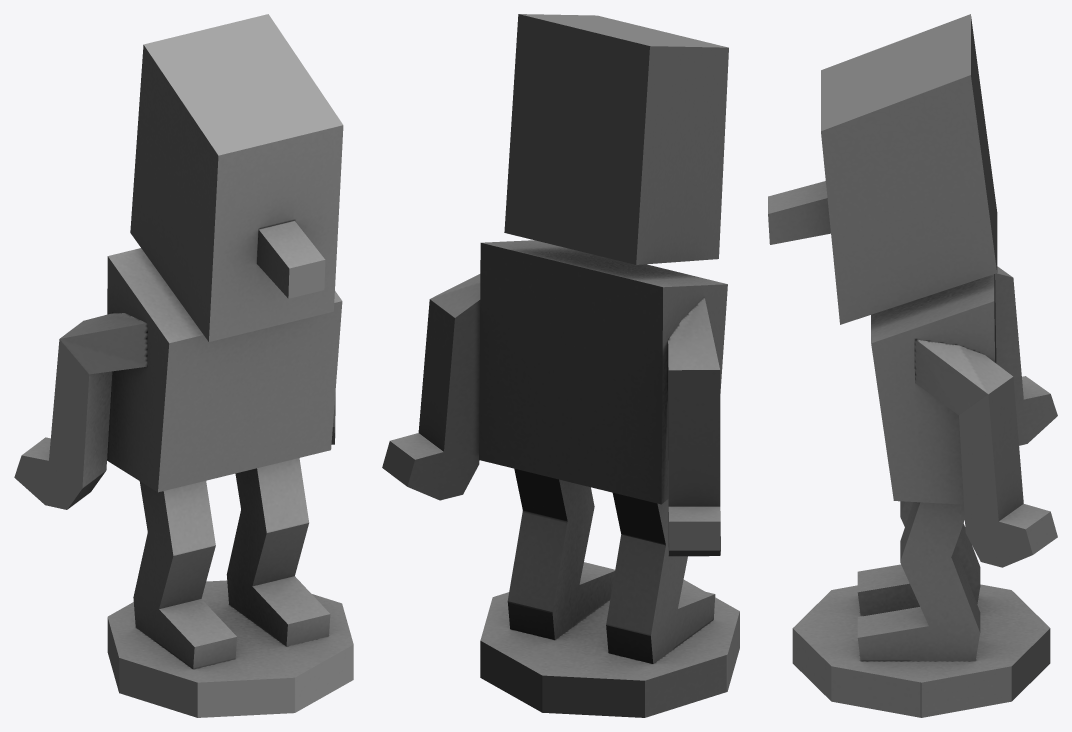
File: figure.fbx
3 views of the same model, side by side, from view 1: azimuth 30°, elevation 25°; view 2: azimuth 150°, elevation 25°; view 3: azimuth 270°, elevation 25° (orthographic). The views are drawn at different scales.
Parts seen in each view (by area): view 1: figureMesh; view 2: figureMesh; view 3: figureMesh.
Part boxes in pixels (left/top/right/bottom): figureMesh: left=14, top=14, right=353, bottom=717; figureMesh: left=382, top=14, right=739, bottom=717; figureMesh: left=768, top=14, right=1057, bottom=717.
Size of the model in its own units: 2.88 by 5.3 by 2.25.
1 material, 1 textured.
